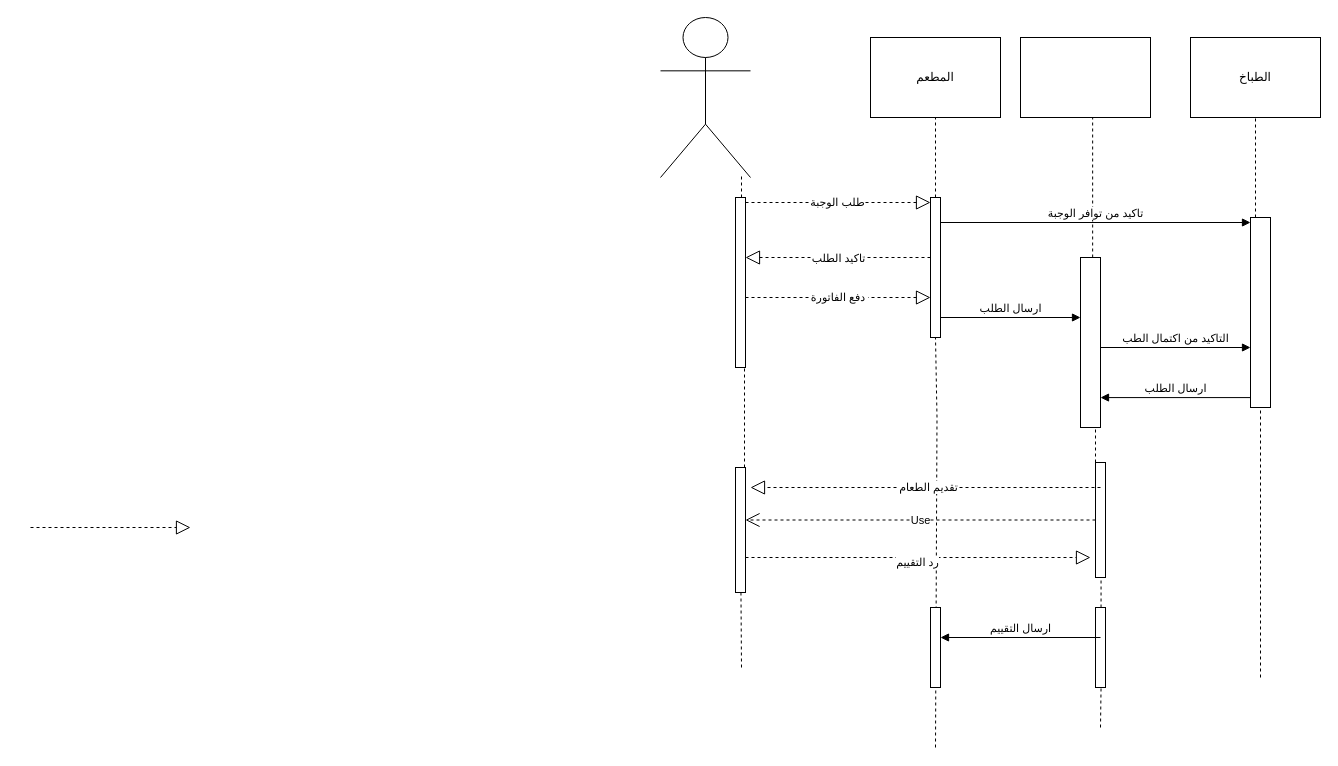
Some shapes in this 1338 by 766 pixel diagram are drawn without their labels. Here are the shapes that lost their labels. From the top down, the centre of each, then its label:
At point 705,97: "العميل".
At point 1085,77: "الموظف".
